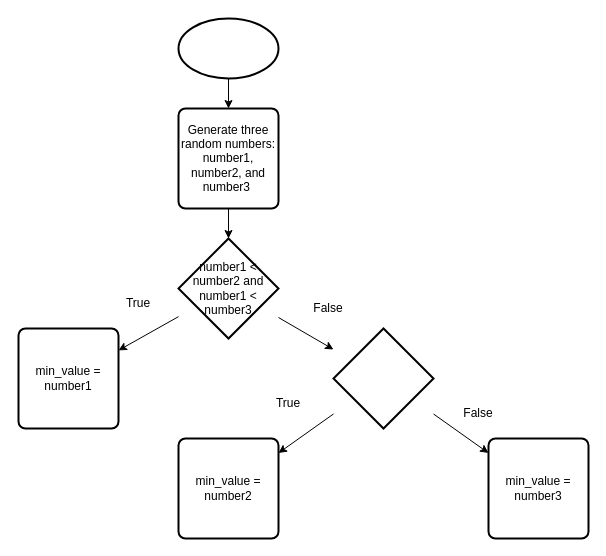
The diagram is 606 pixels wide and 556 high, and some of its shapes have lost their labels. The shapes that lost their labels are listed below. From the top down, each one's centre as x and y in pixels, then its label:
At pixel 228 48: "Start".
At pixel 383 378: "number2 < number1 and number2 < number3".
